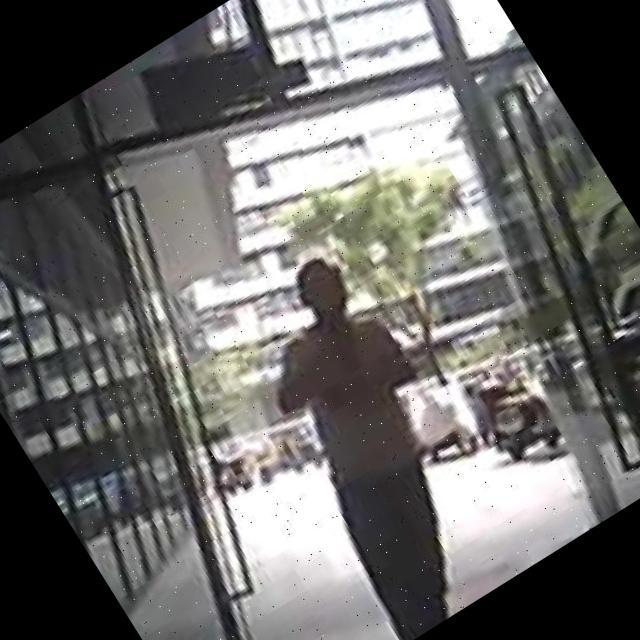person: (201, 241, 539, 640)
